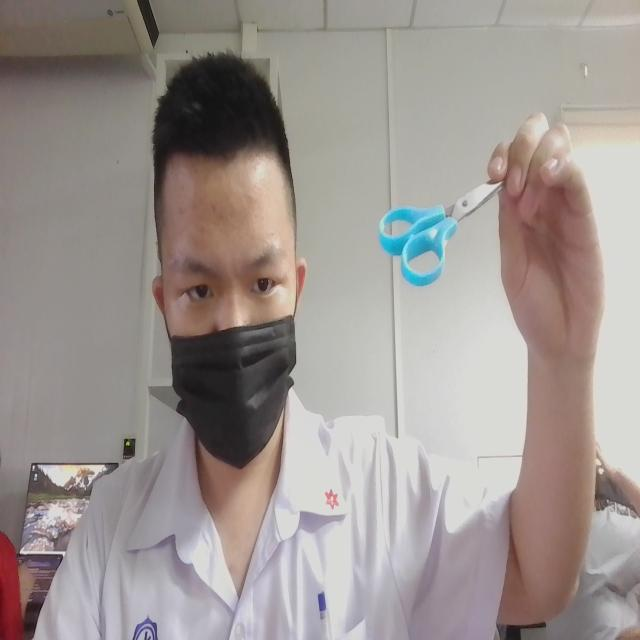scissors: (350, 147, 501, 306)
